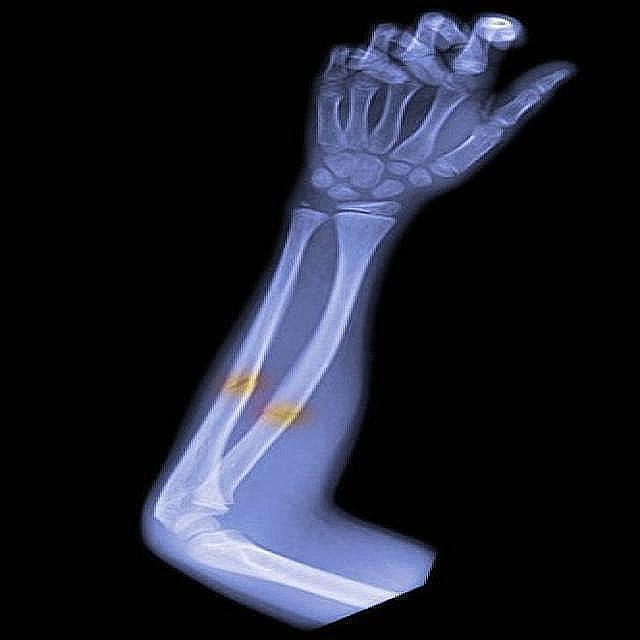bone: (206, 356, 264, 408), (259, 393, 314, 439)
